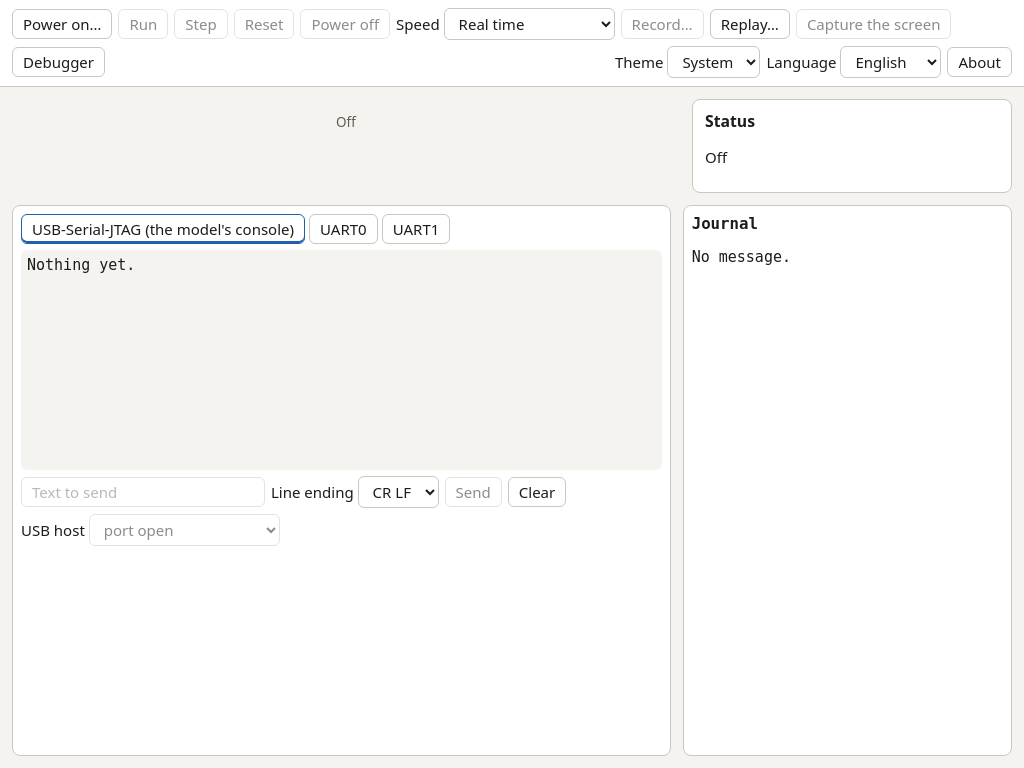
Test case: App › says in the journal where a capture went, and why one was refused
Click the button "Power on…" at {"x": 62, "y": 24}, box [12,9,112,39]
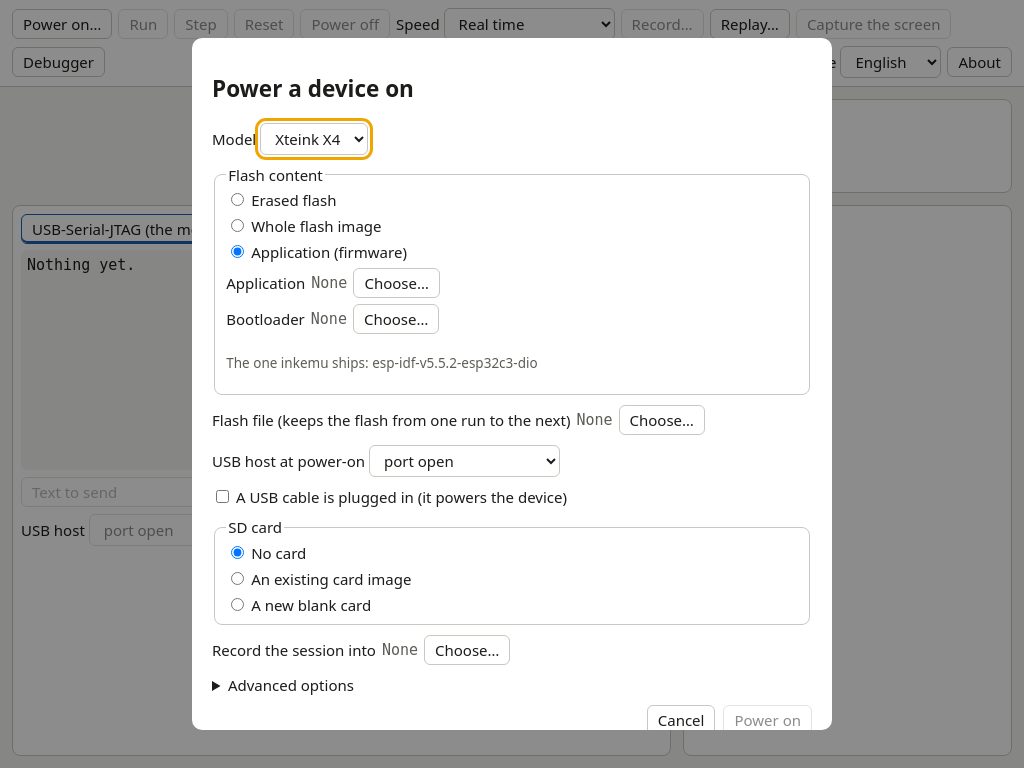
Click the 1st button "Choose…" at {"x": 397, "y": 283}, box [353,268,440,298]
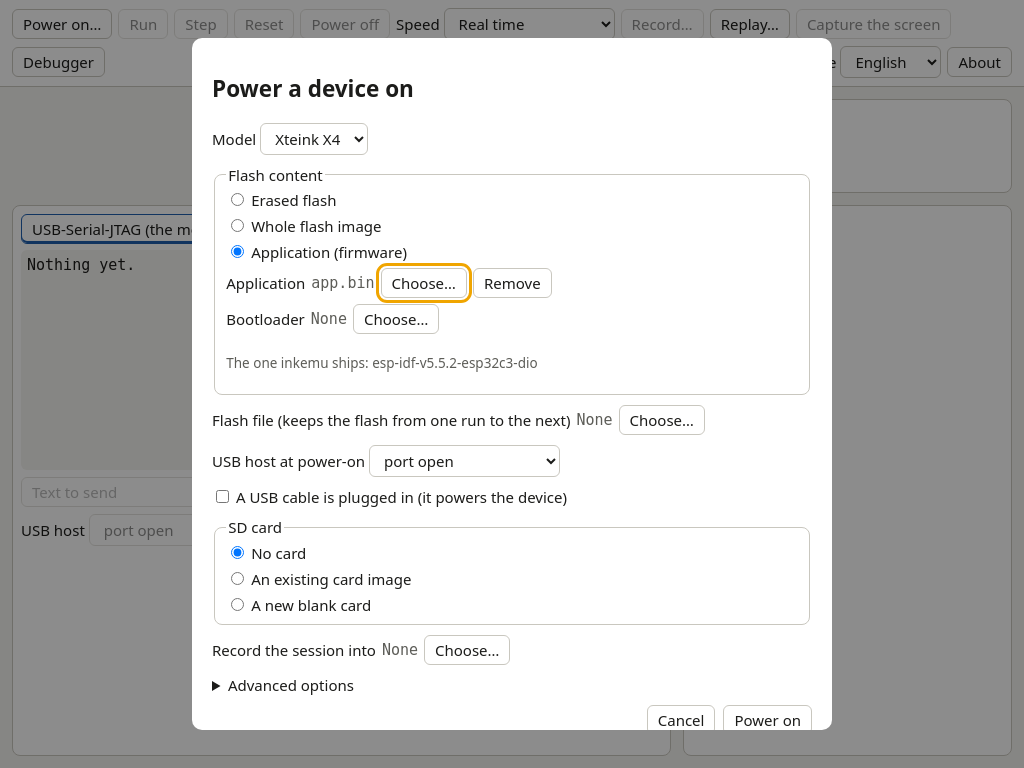
Click the button "Power on" at {"x": 768, "y": 720}, box [724,705,812,735]
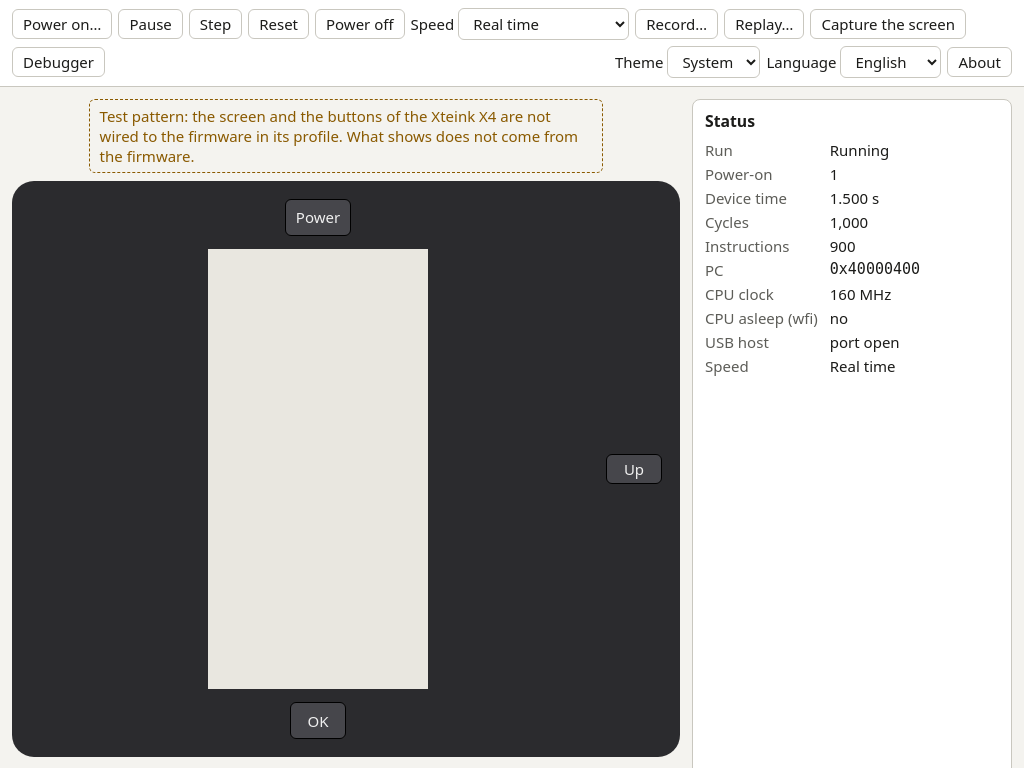
Result: the button "Capture the screen" is enabled
Click the button "Capture the screen" at {"x": 888, "y": 24}, box [810,9,966,39]
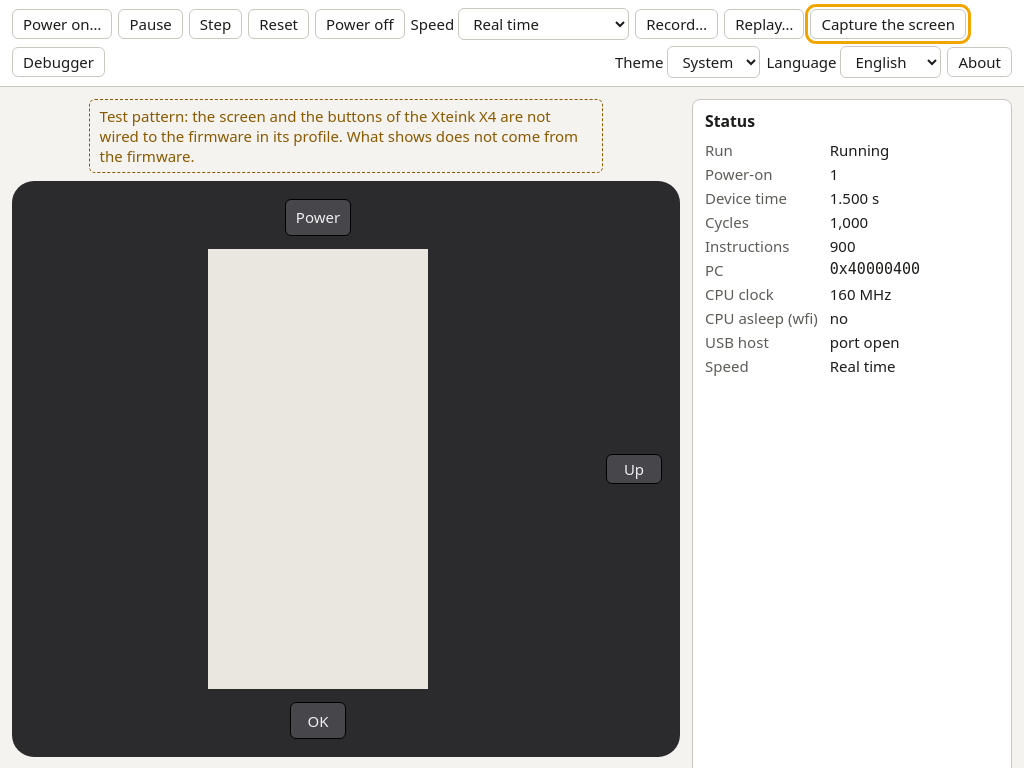
Click the button "Capture the screen" at {"x": 888, "y": 24}, box [810,9,966,39]
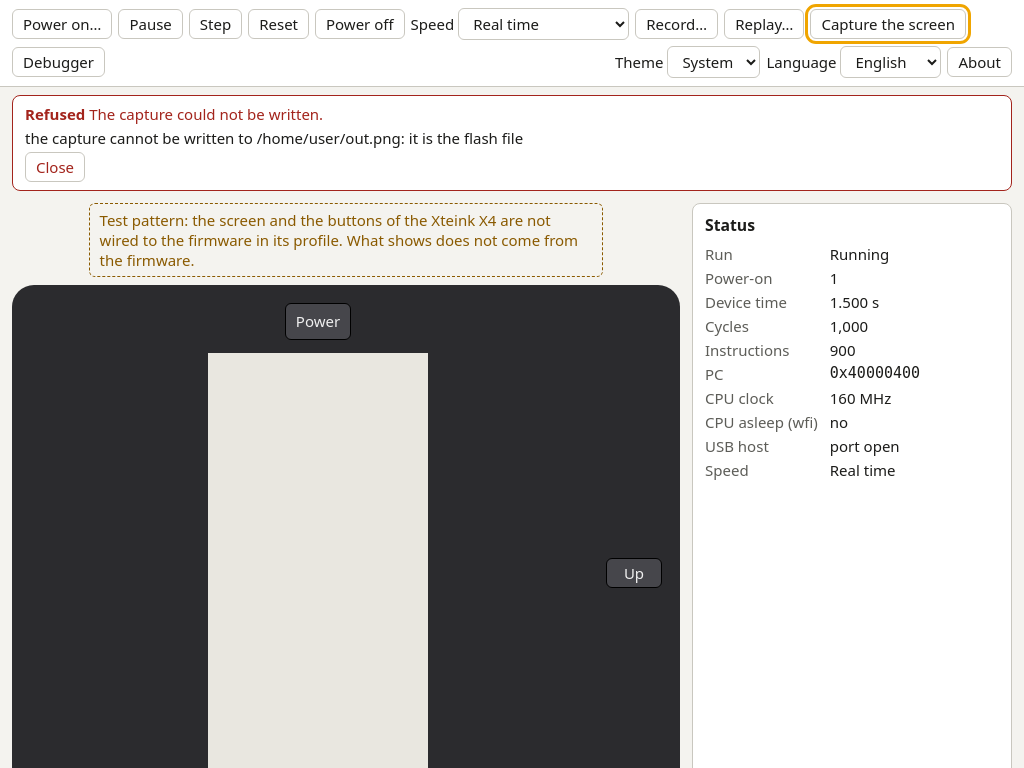
Result: the message shows "The capture could not be written." at [89,104,323,124]
Result: the message shows "it is the flash file" at [25,128,523,148]
